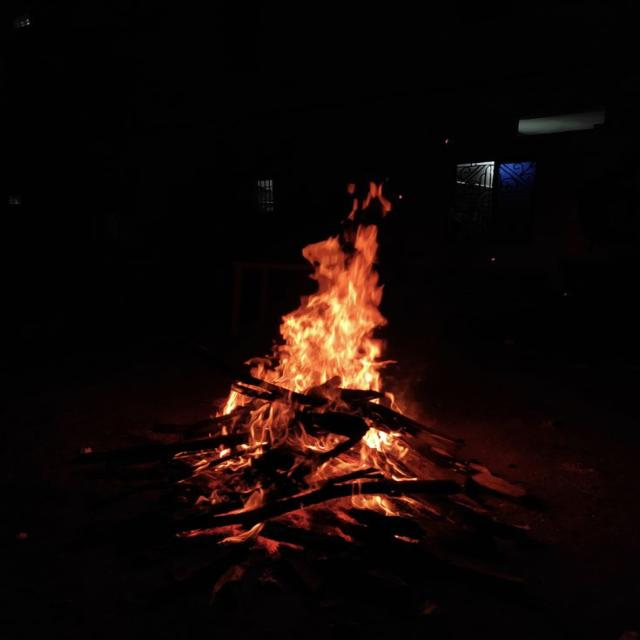fire: (216, 220, 412, 482), (350, 493, 399, 518)
